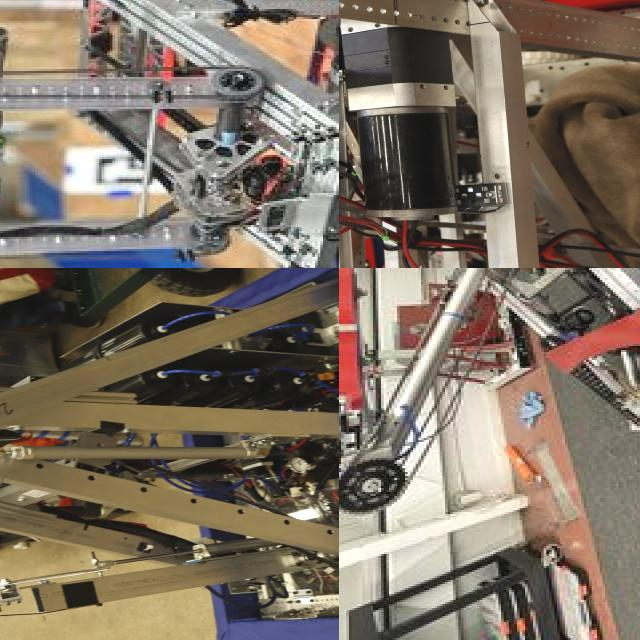FRC-Robots: (0, 268, 339, 640), (0, 0, 339, 268), (339, 268, 640, 558), (339, 0, 617, 268)
